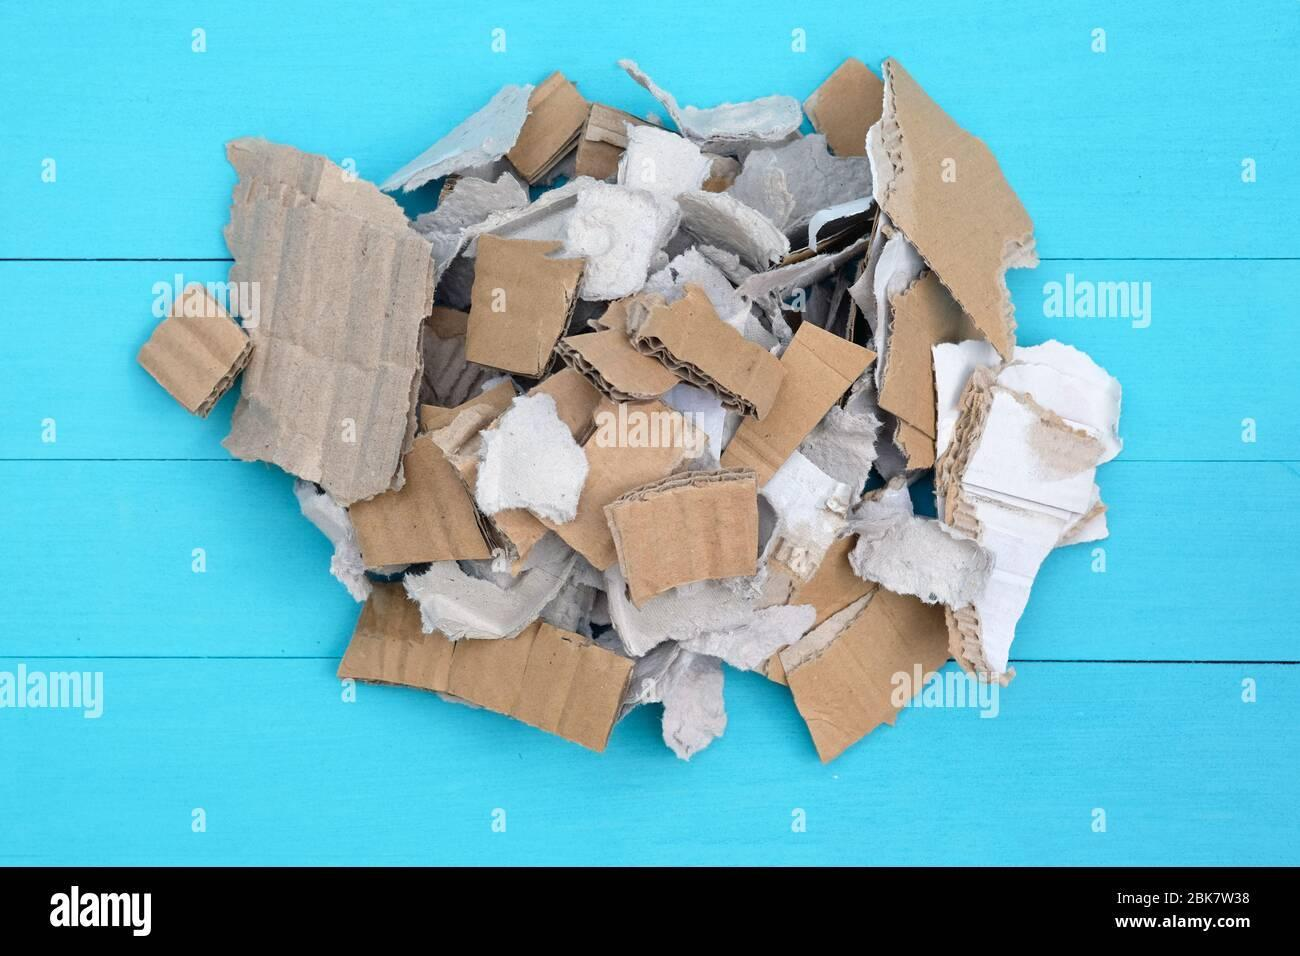Paper: (132, 59, 1123, 764)
